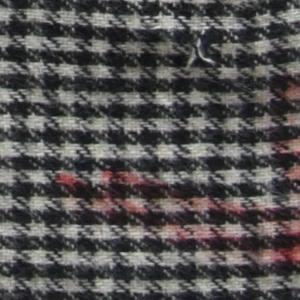Damage: (170, 28, 230, 85)
Stain: (51, 168, 300, 273), (250, 74, 300, 194)
